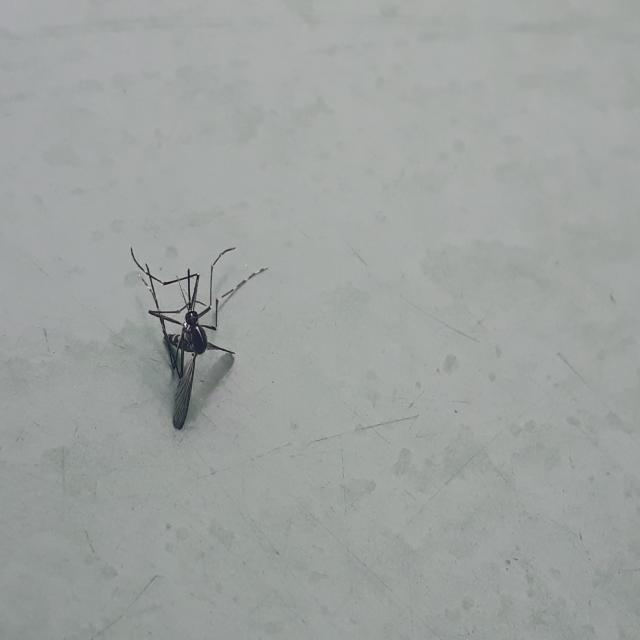albopictus: (122, 229, 272, 432)
